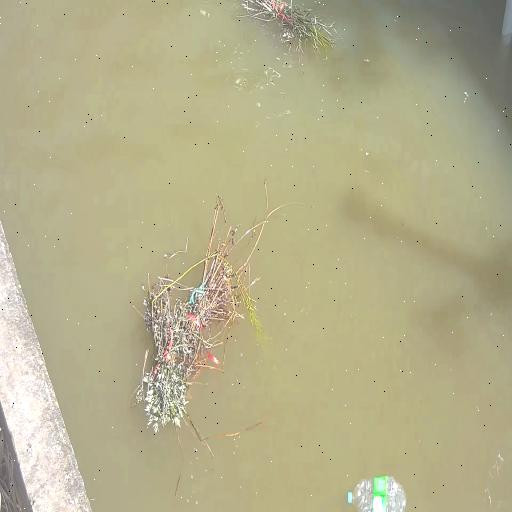plastic: (347, 476, 405, 511)
twig: (133, 180, 294, 448), (242, 0, 334, 54)
